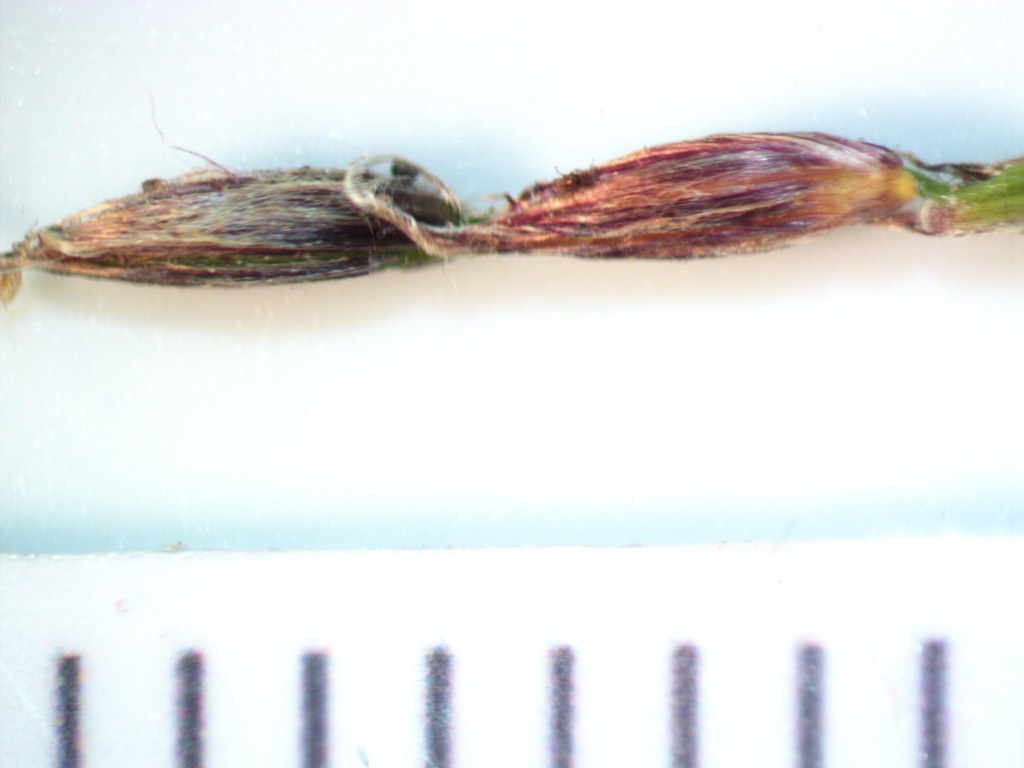insect: (0, 90, 1023, 312)
